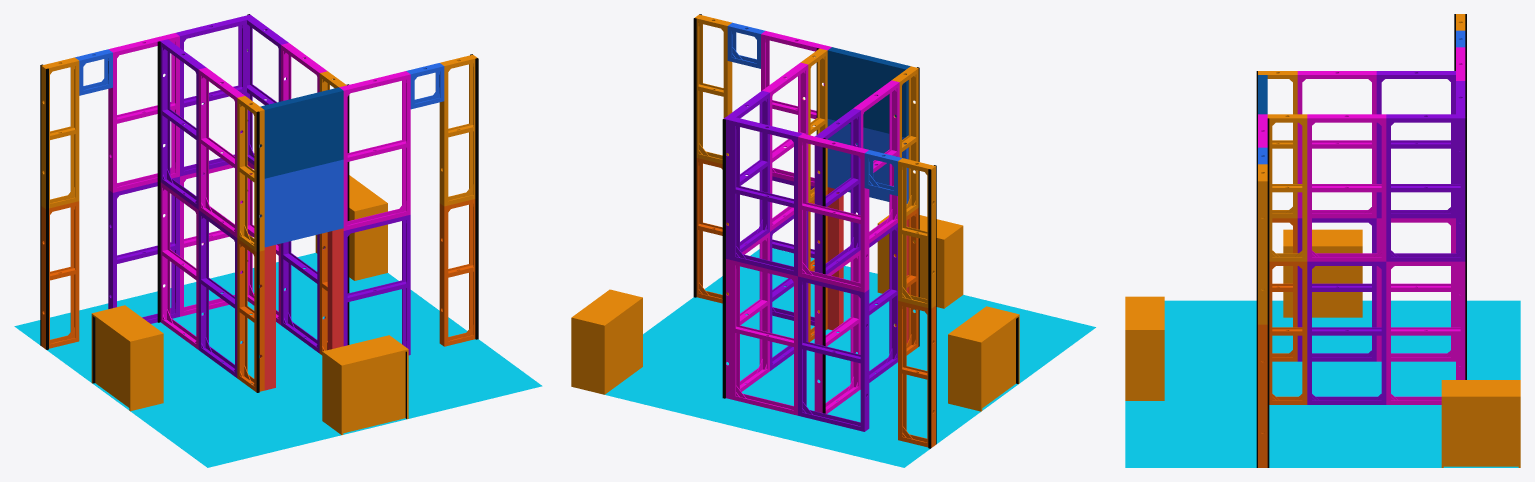
3 views of the same model, side by side, from view 1: azimuth 30°, elevation 25°; view 2: azimuth 150°, elevation 25°; view 3: azimuth 270°, elevation 25° (orthographic). The views are drawn at different scales.
Visible parts, largest first — view 1: Obj3d66-12120929-5-529, Box889503, Деталь 1 (×10), Box14161, Box889565, Деталь 2 (×7), Деталь 18 (×7), Box889566, Деталь 7 (×4), Деталь 6 (×4), Деталь 19 (×3), Box889505 (+12 smaller); view 2: Obj3d66-12120929-5-529, Box889503, Box889566, Box889565, Деталь 2 (×4), Деталь 1 (×5), Деталь 6 (×6), Box14161, Деталь 19 (×4), Деталь 18 (×3), Деталь 3 (×2), Box889505 (+6 smaller); view 3: Obj3d66-12120929-5-529, Деталь 2 (×7), Box889566, Деталь 1 (×6), Box14161, Box889565, Деталь 19 (×3), Деталь 7 (×4), Деталь 6 (×3), Деталь 5 (×3), Box889589, Деталь 4 (×2) (+2 smaller).
Part boxes in pixels (box(x1,y1,x2,y2)): Obj3d66-12120929-5-529: box(14, 252, 542, 467); Box889503: box(260, 87, 343, 247); Деталь 1 (×10): box(112, 17, 477, 377); Box14161: box(322, 335, 408, 434); Box889565: box(91, 305, 163, 411); Деталь 2 (×7): box(45, 60, 410, 392); Деталь 18 (×7): box(108, 67, 327, 376); Box889566: box(315, 175, 387, 280); Деталь 7 (×4): box(75, 65, 347, 345); Деталь 6 (×4): box(70, 67, 448, 342); Деталь 19 (×3): box(41, 110, 263, 391); Box889505: box(327, 228, 343, 349); Obj3d66-12120929-5-529: box(604, 248, 1095, 467); Box889503: box(827, 47, 910, 203); Box889566: box(571, 289, 642, 394); Box889565: box(948, 306, 1019, 411); Деталь 2 (×4): box(731, 120, 864, 431); Деталь 1 (×5): box(699, 14, 931, 443); Деталь 6 (×6): box(731, 125, 902, 436); Box14161: box(877, 215, 963, 308); Деталь 19 (×4): box(726, 66, 935, 447); Деталь 18 (×3): box(724, 118, 868, 431); Деталь 3 (×2): box(725, 34, 827, 255); Box889505: box(827, 187, 843, 330); Obj3d66-12120929-5-529: box(1125, 300, 1520, 467); Деталь 2 (×7): box(1297, 74, 1465, 404); Box889566: box(1441, 380, 1520, 467); Деталь 1 (×6): box(1258, 71, 1464, 404); Box14161: box(1125, 296, 1164, 400); Box889565: box(1283, 229, 1362, 317); Деталь 19 (×3): box(1259, 181, 1460, 467); Деталь 7 (×4): box(1307, 122, 1390, 400); Деталь 6 (×3): box(1297, 79, 1381, 357); Деталь 5 (×3): box(1269, 79, 1381, 400); Box889589: box(1267, 180, 1269, 467); Деталь 4 (×2): box(1312, 187, 1460, 192).
Size of the model in its own units: 5 by 4 by 5.
